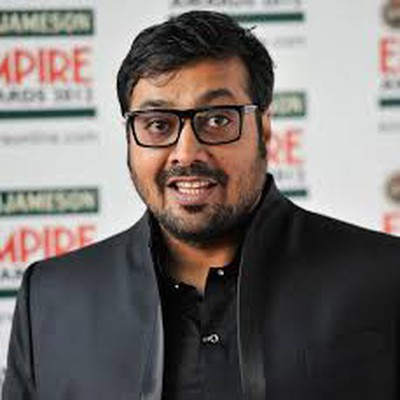eywear: (106, 74, 284, 156)
